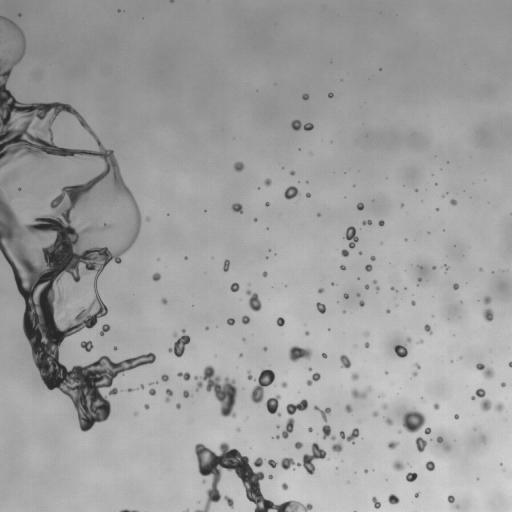droplet: (193, 364, 237, 418), (400, 407, 425, 433), (168, 328, 190, 357), (470, 388, 492, 411), (288, 345, 312, 362), (264, 394, 281, 417), (342, 226, 358, 249), (475, 363, 495, 379), (350, 385, 371, 399), (392, 459, 411, 471), (393, 343, 407, 358), (284, 186, 300, 199), (414, 436, 427, 452), (339, 354, 351, 369), (80, 340, 93, 351), (176, 371, 190, 381), (231, 203, 243, 214), (99, 324, 110, 336), (371, 496, 381, 509), (233, 161, 244, 172), (382, 415, 393, 426), (8, 37, 19, 48), (15, 93, 26, 104), (22, 152, 33, 163), (95, 158, 106, 169), (4, 159, 15, 170), (75, 174, 86, 185), (8, 200, 19, 211), (42, 206, 53, 217), (421, 267, 432, 278), (225, 271, 236, 282), (361, 271, 372, 282), (14, 296, 25, 307), (14, 326, 25, 337), (79, 327, 90, 338), (20, 338, 31, 349), (84, 352, 95, 363), (24, 354, 35, 365), (79, 355, 90, 366), (491, 361, 502, 372), (30, 367, 41, 378), (489, 375, 500, 386), (167, 377, 178, 388), (477, 377, 488, 388), (176, 378, 187, 389), (184, 379, 195, 390), (354, 379, 365, 390), (155, 381, 166, 392), (262, 386, 273, 397), (171, 391, 182, 402), (62, 396, 73, 407), (211, 399, 222, 410), (332, 404, 343, 415), (418, 404, 429, 415), (67, 406, 78, 417), (422, 409, 433, 420), (325, 415, 336, 426), (393, 416, 404, 427), (69, 417, 80, 428), (312, 431, 323, 442), (319, 439, 330, 450), (425, 439, 436, 450), (389, 448, 400, 459), (421, 449, 432, 460), (292, 450, 303, 461), (259, 463, 270, 474), (415, 465, 426, 476), (219, 467, 230, 478), (225, 468, 236, 479), (257, 479, 268, 490), (216, 482, 227, 493), (260, 487, 271, 498), (316, 302, 326, 314), (494, 402, 506, 412), (405, 472, 417, 482), (387, 494, 399, 504), (425, 460, 435, 471), (387, 440, 399, 449), (424, 324, 433, 335), (267, 459, 278, 468), (222, 259, 230, 271), (230, 282, 239, 292), (240, 315, 250, 324), (442, 442, 451, 452), (152, 272, 161, 281), (276, 317, 285, 326), (118, 167, 127, 176), (8, 180, 17, 189), (297, 185, 306, 194), (358, 210, 367, 219), (379, 282, 388, 291), (324, 285, 333, 294), (349, 295, 358, 304), (477, 302, 486, 311), (244, 307, 253, 316), (15, 317, 24, 326), (95, 317, 104, 326), (61, 336, 70, 345), (311, 349, 320, 358), (111, 377, 120, 386), (98, 386, 107, 395), (156, 388, 165, 397), (233, 393, 242, 402), (106, 394, 115, 403), (349, 397, 358, 406), (277, 403, 286, 412), (404, 403, 413, 412), (280, 411, 289, 420), (330, 426, 339, 435), (415, 427, 424, 436), (401, 465, 410, 474), (379, 495, 388, 504), (272, 496, 281, 505), (182, 390, 192, 398), (344, 403, 352, 413), (341, 248, 349, 257), (350, 372, 359, 380), (294, 441, 303, 449), (480, 434, 487, 444), (505, 373, 511, 384), (505, 383, 511, 394), (505, 400, 511, 411), (219, 505, 230, 511), (230, 505, 241, 511), (386, 505, 397, 511), (444, 505, 455, 511), (356, 202, 364, 210), (161, 374, 169, 382), (423, 427, 431, 435), (226, 318, 235, 325), (362, 219, 372, 225), (264, 178, 271, 186), (449, 198, 457, 205), (279, 381, 287, 388), (148, 388, 156, 395), (432, 402, 439, 410), (281, 482, 288, 490), (0, 165, 5, 176), (302, 93, 309, 100), (339, 264, 346, 271), (365, 264, 372, 271), (436, 436, 443, 443), (11, 15, 18, 22), (9, 28, 16, 35), (24, 39, 31, 46), (44, 96, 51, 103), (60, 97, 67, 104), (70, 102, 77, 109), (83, 115, 90, 122), (103, 143, 110, 150), (55, 154, 62, 161), (234, 155, 241, 162), (86, 173, 93, 180), (123, 178, 130, 185), (68, 179, 75, 186), (257, 179, 264, 186), (54, 188, 61, 195), (444, 194, 451, 201), (371, 218, 378, 225), (340, 256, 347, 263), (108, 259, 115, 266), (7, 271, 14, 278), (9, 279, 16, 286), (238, 285, 245, 292), (348, 291, 355, 298), (487, 302, 494, 309), (18, 304, 25, 311), (491, 311, 498, 318), (234, 316, 241, 323), (479, 317, 486, 324), (411, 334, 418, 341), (297, 341, 304, 348), (283, 350, 290, 357), (347, 354, 354, 361), (57, 356, 64, 363), (111, 356, 118, 363), (297, 356, 304, 363), (482, 359, 489, 366), (348, 364, 355, 371), (213, 368, 220, 375), (197, 369, 204, 376), (252, 371, 259, 378), (39, 382, 46, 389), (233, 382, 240, 389), (143, 384, 150, 391), (208, 388, 215, 395), (366, 392, 373, 399), (475, 396, 482, 403), (376, 397, 383, 404), (292, 398, 299, 405), (259, 399, 266, 406), (489, 399, 496, 406), (502, 400, 509, 407), (306, 401, 313, 408), (231, 404, 238, 411), (108, 405, 115, 412), (488, 406, 495, 413), (377, 408, 384, 415), (383, 409, 390, 416), (498, 410, 505, 417), (224, 414, 231, 421), (92, 421, 99, 428), (279, 423, 286, 430), (401, 427, 408, 434), (344, 428, 351, 435), (429, 430, 436, 437), (421, 433, 428, 440), (390, 434, 397, 441), (334, 436, 341, 443), (340, 438, 347, 445), (227, 442, 234, 449), (393, 445, 400, 452), (214, 448, 221, 455), (190, 453, 197, 460), (399, 456, 406, 463), (311, 457, 318, 464), (247, 459, 254, 466), (275, 463, 282, 470), (192, 464, 199, 471), (251, 465, 258, 472), (298, 465, 305, 472), (195, 472, 202, 479), (206, 473, 213, 480), (235, 477, 242, 484), (201, 493, 208, 500), (218, 497, 225, 504), (209, 500, 216, 507), (198, 502, 205, 509), (249, 502, 256, 509), (390, 502, 397, 509), (378, 219, 384, 226), (453, 283, 459, 290), (317, 287, 324, 293), (161, 297, 167, 304), (372, 410, 378, 417), (176, 402, 181, 410), (343, 292, 349, 298), (359, 300, 365, 306), (363, 331, 369, 337), (381, 403, 387, 409), (307, 426, 313, 432), (414, 492, 420, 498), (0, 50, 4, 59), (416, 339, 423, 344), (502, 467, 507, 474), (328, 92, 333, 98), (289, 170, 295, 175), (305, 192, 311, 197), (265, 201, 270, 207), (262, 271, 267, 277), (406, 337, 411, 343), (364, 342, 369, 348), (321, 353, 327, 358), (500, 382, 506, 387), (378, 393, 384, 398), (267, 507, 274, 511), (316, 212, 321, 217), (145, 216, 150, 221), (370, 256, 375, 261), (364, 284, 369, 289), (262, 346, 267, 351), (238, 352, 243, 357), (144, 404, 149, 409), (454, 414, 459, 419), (268, 474, 273, 479), (1, 11, 6, 16), (23, 31, 28, 36), (24, 35, 29, 40), (24, 47, 29, 52), (21, 55, 26, 60), (8, 72, 13, 77), (302, 88, 307, 93), (9, 89, 14, 94), (291, 115, 296, 120), (295, 115, 300, 120), (300, 120, 305, 125), (90, 125, 95, 130), (287, 125, 292, 130), (290, 128, 295, 133), (93, 129, 98, 134), (307, 129, 312, 134), (99, 138, 104, 143), (112, 151, 117, 156), (242, 160, 247, 165), (289, 165, 294, 170), (229, 166, 234, 171), (285, 167, 290, 172), (240, 168, 245, 173), (235, 170, 240, 175), (265, 173, 270, 178), (261, 175, 266, 180), (270, 177, 275, 182), (293, 182, 298, 187), (260, 183, 265, 188), (268, 183, 273, 188), (128, 186, 133, 191), (280, 188, 285, 193), (131, 191, 136, 196), (279, 191, 284, 196), (453, 195, 458, 200), (291, 196, 296, 201), (237, 199, 242, 204), (136, 201, 141, 206), (227, 202, 232, 207), (448, 203, 453, 208), (241, 206, 246, 211), (138, 207, 143, 212), (234, 210, 239, 215), (377, 215, 382, 220), (140, 216, 145, 221), (354, 231, 359, 236), (137, 232, 142, 237), (131, 242, 136, 247), (128, 246, 133, 251), (345, 246, 350, 251), (336, 249, 341, 254), (267, 251, 272, 256), (119, 254, 124, 259), (367, 259, 372, 264), (228, 263, 233, 268), (6, 264, 11, 269), (156, 268, 161, 273), (150, 269, 155, 274), (257, 271, 262, 276), (417, 272, 422, 277), (147, 275, 152, 280), (155, 279, 160, 284), (457, 281, 462, 286), (368, 282, 373, 287), (316, 283, 321, 288), (448, 283, 453, 288), (398, 286, 403, 291), (250, 288, 255, 293), (227, 289, 232, 294), (234, 290, 239, 295), (488, 292, 493, 297), (245, 294, 250, 299), (257, 295, 262, 300), (411, 295, 416, 300), (356, 296, 361, 301), (479, 298, 484, 303), (363, 299, 368, 304), (414, 299, 419, 304), (159, 302, 164, 307), (354, 302, 359, 307), (312, 305, 317, 310), (324, 305, 329, 310), (258, 307, 263, 312), (315, 310, 320, 315), (272, 316, 277, 321), (248, 319, 253, 324), (486, 320, 491, 325), (272, 321, 277, 326), (245, 322, 250, 327), (419, 324, 424, 329), (429, 325, 434, 330), (82, 326, 87, 331), (302, 326, 307, 331), (308, 329, 313, 334), (184, 330, 189, 335), (177, 331, 182, 336), (172, 336, 177, 341), (362, 337, 367, 342), (410, 338, 415, 343), (398, 340, 403, 345), (262, 341, 267, 346), (359, 342, 364, 347), (169, 343, 174, 348), (184, 343, 189, 348), (417, 343, 422, 348), (266, 344, 271, 349), (406, 347, 411, 352), (150, 348, 155, 353), (143, 349, 148, 354), (169, 350, 174, 355), (182, 350, 187, 355), (338, 350, 343, 355), (406, 351, 411, 356), (392, 352, 397, 357), (128, 353, 133, 358), (92, 356, 97, 361), (399, 356, 404, 361), (480, 359, 485, 364), (152, 360, 157, 365), (337, 360, 342, 365), (145, 362, 150, 367), (138, 364, 143, 369), (263, 365, 268, 370), (267, 365, 272, 370), (411, 365, 416, 370), (66, 366, 71, 371), (341, 366, 346, 371), (130, 367, 135, 372), (181, 368, 186, 373), (311, 368, 316, 373), (123, 369, 128, 374), (160, 369, 165, 374), (272, 369, 277, 374), (477, 369, 482, 374), (357, 371, 362, 376), (407, 371, 412, 376), (189, 373, 194, 378), (178, 375, 183, 380), (307, 375, 312, 380), (157, 378, 162, 383), (272, 378, 277, 383), (504, 379, 509, 384), (202, 380, 207, 385), (254, 380, 259, 385), (286, 382, 291, 387), (110, 383, 115, 388), (151, 383, 156, 388), (474, 384, 479, 389), (480, 384, 485, 389), (168, 385, 173, 390), (53, 386, 58, 391), (116, 390, 121, 395), (162, 392, 167, 397), (63, 394, 68, 399), (148, 394, 153, 399), (482, 394, 487, 399), (432, 398, 437, 403), (249, 400, 254, 405), (340, 403, 345, 408), (428, 403, 433, 408), (438, 403, 443, 408), (320, 405, 325, 410), (435, 408, 440, 413), (341, 409, 346, 414), (315, 410, 320, 415), (367, 410, 372, 415), (271, 412, 276, 417), (345, 412, 350, 417), (286, 413, 291, 418), (376, 414, 381, 419), (320, 420, 325, 425), (325, 420, 330, 425), (381, 421, 386, 426), (292, 422, 297, 427), (386, 424, 391, 429), (358, 429, 363, 434), (277, 430, 282, 435), (318, 430, 323, 435), (278, 435, 283, 440), (325, 435, 330, 440), (352, 436, 357, 441), (297, 437, 302, 442), (385, 438, 390, 443), (194, 439, 199, 444), (383, 441, 388, 446), (204, 443, 209, 448), (318, 444, 323, 449), (412, 444, 417, 449), (423, 445, 428, 450), (386, 447, 391, 452), (307, 450, 312, 455), (338, 450, 343, 455), (240, 451, 245, 456), (285, 453, 290, 458), (429, 456, 434, 461), (298, 458, 303, 463), (421, 460, 426, 465), (433, 461, 438, 466), (337, 462, 342, 467), (288, 464, 293, 469), (366, 465, 371, 470), (409, 468, 414, 473), (367, 469, 372, 474), (425, 469, 430, 474), (430, 469, 435, 474), (263, 473, 268, 478), (414, 477, 419, 482), (286, 481, 291, 486), (277, 484, 282, 489), (394, 492, 399, 497), (227, 493, 232, 498), (376, 496, 381, 501), (244, 498, 249, 503), (443, 498, 448, 503), (453, 498, 458, 503), (232, 500, 237, 505), (369, 501, 374, 506), (121, 504, 126, 509), (127, 505, 132, 510), (331, 282, 337, 286), (0, 18, 3, 25), (308, 150, 312, 155), (400, 203, 404, 208), (253, 217, 257, 222), (478, 267, 483, 271), (417, 277, 422, 281), (356, 292, 360, 297), (411, 300, 415, 305), (204, 326, 209, 330), (304, 331, 309, 335), (242, 337, 246, 342), (308, 366, 312, 371), (235, 427, 240, 431), (508, 361, 511, 367), (414, 188, 418, 192), (358, 251, 362, 255), (432, 265, 436, 269), (386, 309, 390, 313), (353, 344, 357, 348), (113, 346, 117, 350), (458, 355, 462, 359), (276, 424, 280, 428), (472, 427, 476, 431), (397, 429, 401, 433), (364, 469, 368, 473), (335, 466, 338, 471), (188, 508, 193, 511), (374, 508, 379, 511), (454, 508, 459, 511), (18, 13, 21, 17), (435, 208, 439, 211), (184, 256, 187, 260), (342, 310, 346, 313), (384, 371, 388, 374), (134, 412, 138, 415), (358, 419, 361, 423), (499, 462, 502, 466), (347, 480, 350, 484), (169, 0, 174, 2), (0, 174, 2, 179), (0, 250, 2, 255), (117, 9, 120, 12), (281, 166, 284, 169), (297, 180, 300, 183), (305, 180, 308, 183), (434, 182, 437, 185), (352, 184, 355, 187), (18, 187, 21, 190), (257, 186, 260, 189), (427, 231, 430, 234), (404, 238, 407, 241), (380, 241, 383, 244), (268, 248, 271, 251), (265, 256, 268, 259), (157, 258, 160, 261), (491, 270, 494, 273), (284, 284, 287, 287), (395, 304, 398, 307), (431, 314, 434, 317), (450, 360, 453, 363), (242, 387, 245, 390), (327, 457, 330, 460), (292, 468, 295, 471), (476, 477, 479, 480), (197, 500, 200, 503), (170, 2, 173, 5), (120, 7, 123, 10), (114, 9, 117, 12), (119, 10, 122, 13), (20, 11, 23, 14), (20, 14, 23, 17), (19, 59, 22, 62), (378, 64, 381, 67), (378, 70, 381, 73), (330, 89, 333, 92), (324, 93, 327, 96), (299, 94, 302, 97), (331, 96, 334, 99), (303, 99, 306, 102), (309, 120, 312, 123), (297, 144, 300, 147), (300, 147, 303, 150), (297, 150, 300, 153), (289, 174, 292, 177), (308, 180, 311, 183), (436, 180, 439, 183), (431, 182, 434, 185), (18, 184, 21, 187), (415, 185, 418, 188), (434, 185, 437, 188), (444, 188, 447, 191), (15, 189, 18, 192), (19, 189, 22, 192), (307, 189, 310, 192), (413, 191, 416, 194), (310, 194, 313, 197), (306, 196, 309, 199), (265, 198, 268, 201), (262, 201, 265, 204), (354, 201, 357, 204), (397, 203, 400, 206), (435, 204, 438, 207), (266, 205, 269, 208), (402, 205, 405, 208), (203, 206, 206, 209), (362, 207, 365, 210), (432, 208, 435, 211), (206, 209, 209, 212), (359, 209, 362, 212), (168, 211, 171, 214), (203, 211, 206, 214), (319, 211, 322, 214), (163, 212, 166, 215), (313, 212, 316, 215), (166, 215, 169, 218), (251, 215, 254, 218), (317, 216, 320, 219), (250, 218, 253, 221), (256, 218, 259, 221), (383, 219, 386, 222), (383, 222, 386, 225), (265, 223, 268, 226), (365, 223, 368, 226), (346, 224, 349, 227), (378, 225, 381, 228), (268, 227, 271, 230), (427, 228, 430, 231), (265, 229, 268, 232), (343, 229, 346, 232), (405, 235, 408, 238), (407, 238, 410, 241), (401, 239, 404, 242), (455, 244, 458, 247), (268, 245, 271, 248), (265, 247, 268, 250), (361, 250, 364, 253), (371, 252, 374, 255), (181, 254, 184, 257), (186, 254, 189, 257), (374, 255, 377, 258), (225, 256, 228, 259), (262, 256, 265, 259), (267, 257, 270, 260), (184, 259, 187, 262), (443, 260, 446, 263), (338, 262, 341, 265), (418, 262, 421, 265), (432, 262, 435, 265), (440, 262, 443, 265), (446, 262, 449, 265), (220, 263, 223, 266), (345, 265, 348, 268), (416, 266, 419, 269), (428, 266, 431, 269), (435, 266, 438, 269), (442, 266, 445, 269), (362, 267, 365, 270), (220, 268, 223, 271), (338, 268, 341, 271), (260, 269, 263, 272), (342, 269, 345, 272), (446, 269, 449, 272), (225, 270, 228, 273), (266, 273, 269, 276), (97, 275, 100, 278), (263, 276, 266, 279), (353, 276, 356, 279), (359, 276, 362, 279), (96, 279, 99, 282), (356, 279, 359, 282), (235, 280, 238, 283), (333, 280, 336, 283), (416, 280, 419, 283), (455, 280, 458, 283), (229, 281, 232, 284), (282, 281, 285, 284), (363, 281, 366, 284), (327, 282, 330, 285), (375, 282, 378, 285), (404, 283, 407, 286), (332, 284, 335, 287), (393, 285, 396, 288), (96, 286, 99, 289), (415, 286, 418, 289), (315, 287, 318, 290), (406, 287, 409, 290), (364, 288, 367, 291), (455, 288, 458, 291), (377, 289, 380, 292), (391, 289, 394, 292), (403, 289, 406, 292), (345, 290, 348, 293), (396, 291, 399, 294), (165, 297, 168, 300), (344, 298, 347, 301), (320, 300, 323, 303), (103, 301, 106, 304), (191, 301, 194, 304), (408, 302, 411, 305), (188, 303, 191, 306), (105, 304, 108, 307), (361, 305, 364, 308), (387, 306, 390, 309), (344, 307, 347, 310), (389, 309, 392, 312), (323, 311, 326, 314), (386, 312, 389, 315), (342, 313, 345, 316), (230, 315, 233, 318), (282, 316, 285, 319), (223, 319, 226, 322), (283, 321, 286, 324), (107, 322, 110, 325), (204, 323, 207, 326), (228, 324, 231, 327), (327, 324, 330, 327), (279, 325, 282, 328), (208, 327, 211, 330), (324, 327, 327, 330), (330, 327, 333, 330), (205, 329, 208, 332), (301, 331, 304, 334), (99, 335, 102, 338), (244, 335, 247, 338), (305, 335, 308, 338), (189, 338, 192, 341), (416, 338, 419, 341), (239, 339, 242, 342), (260, 344, 263, 347), (368, 344, 371, 347), (116, 345, 119, 348), (110, 346, 113, 349), (90, 347, 93, 350), (364, 347, 367, 350), (165, 348, 168, 351), (266, 348, 269, 351), (261, 349, 264, 352), (322, 349, 325, 352), (236, 352, 239, 355), (325, 352, 328, 355), (242, 353, 245, 356), (319, 355, 322, 358), (326, 355, 329, 358), (403, 355, 406, 358), (239, 356, 242, 359), (322, 357, 325, 360), (452, 358, 455, 361), (507, 359, 510, 362), (417, 361, 420, 364), (505, 362, 508, 365), (508, 366, 511, 369), (305, 368, 308, 371), (386, 368, 389, 371), (416, 368, 419, 371), (177, 369, 180, 372), (381, 371, 384, 374), (386, 373, 389, 376), (319, 376, 322, 379), (411, 376, 414, 379), (148, 379, 151, 382), (152, 379, 155, 382), (502, 379, 505, 382), (139, 380, 142, 383), (304, 383, 307, 386), (497, 383, 500, 386), (137, 384, 140, 387), (127, 385, 130, 388), (503, 385, 506, 388), (116, 388, 119, 391), (128, 391, 131, 394), (188, 391, 191, 394), (422, 394, 425, 397), (474, 394, 477, 397), (187, 395, 190, 398), (379, 396, 382, 399), (148, 404, 151, 407), (141, 405, 144, 408), (145, 408, 148, 411), (330, 409, 333, 412), (457, 412, 460, 415), (451, 415, 454, 418), (458, 415, 461, 418), (455, 418, 458, 421), (353, 425, 356, 428), (305, 428, 308, 431), (430, 428, 433, 431), (308, 431, 311, 434), (272, 434, 275, 437), (268, 436, 271, 439), (273, 437, 276, 440), (440, 441, 443, 444), (480, 441, 483, 444), (324, 454, 327, 457), (268, 456, 271, 459), (496, 462, 499, 465), (500, 465, 503, 468), (332, 466, 335, 469), (374, 468, 377, 471), (361, 470, 364, 473), (473, 476, 476, 479), (403, 477, 406, 480), (477, 479, 480, 482), (414, 489, 417, 492), (418, 492, 421, 495), (447, 492, 450, 495), (372, 493, 375, 496), (411, 494, 414, 497), (453, 495, 456, 498), (369, 496, 372, 499), (444, 496, 447, 499), (309, 501, 312, 504), (303, 503, 306, 506), (183, 507, 186, 510), (354, 507, 357, 510), (341, 459, 343, 463), (379, 68, 382, 70), (330, 140, 332, 143), (446, 161, 449, 163), (204, 209, 206, 212), (166, 213, 169, 215), (266, 227, 268, 230), (273, 253, 276, 255), (211, 256, 213, 259), (248, 283, 250, 286), (416, 284, 419, 286), (404, 286, 406, 289), (336, 301, 339, 303), (460, 300, 462, 303), (327, 328, 330, 330), (120, 389, 123, 391), (246, 416, 248, 419), (430, 438, 432, 441), (372, 468, 374, 471), (354, 471, 357, 473), (385, 478, 387, 481), (340, 79, 342, 81), (298, 148, 300, 150), (344, 196, 346, 198), (372, 199, 374, 201), (357, 277, 359, 279), (361, 437, 363, 439), (166, 0, 169, 1), (173, 0, 176, 1), (443, 229, 444, 231), (477, 300, 479, 301), (298, 391, 299, 393), (192, 305, 193, 306), (216, 326, 217, 327)
ligament: (276, 398, 308, 439), (313, 405, 336, 440), (245, 289, 262, 311), (482, 295, 493, 321), (291, 119, 314, 131), (306, 372, 320, 386), (447, 494, 459, 509), (223, 494, 234, 509), (125, 384, 144, 392), (412, 361, 421, 377), (164, 388, 173, 403), (372, 279, 379, 293), (148, 380, 158, 385), (390, 286, 398, 292), (119, 509, 139, 511), (441, 192, 448, 197), (416, 264, 423, 269), (420, 396, 425, 401), (183, 508, 189, 511), (271, 436, 273, 439), (353, 510, 357, 511), (510, 212, 511, 215)
